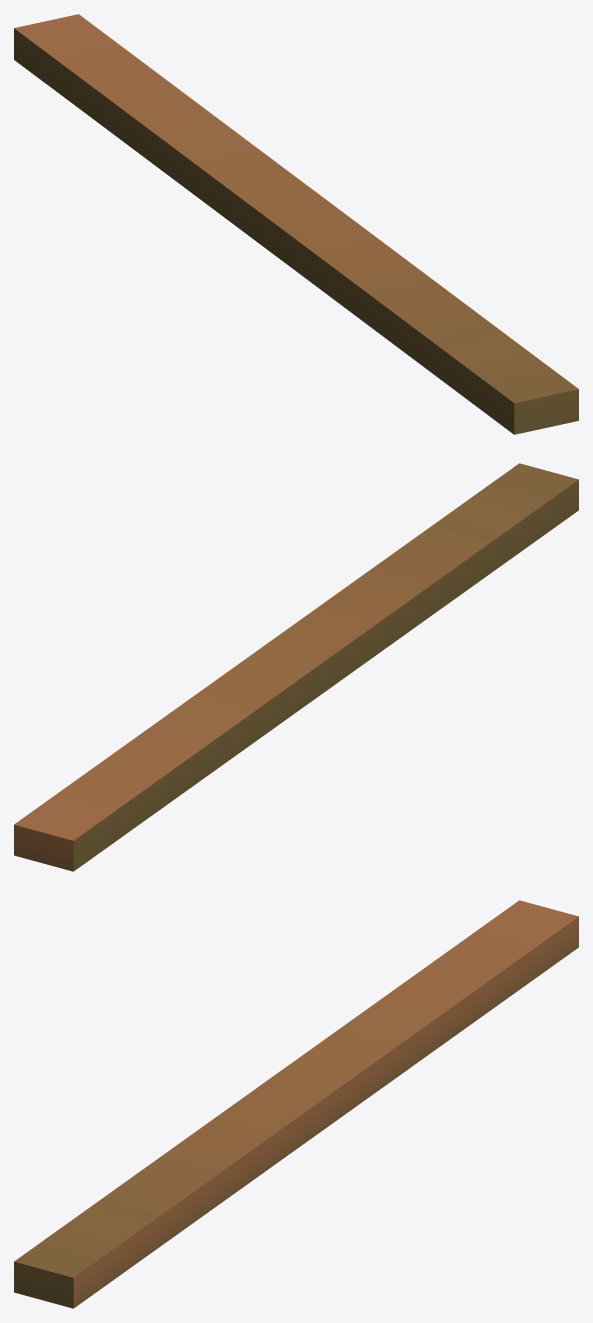
3 renders of one model, top to bottom at view 1: azimuth 30°, elevation 25°; view 2: azimuth 150°, elevation 25°; view 3: azimuth 330°, elevation 25°, orthographic. The views are drawn at different scales.
Visible parts, largest first — view 1: Object056; view 2: Object056; view 3: Object056.
Part boxes in pixels (x1=…): Object056: x1=14, y1=14, x2=578, y2=434; Object056: x1=14, y1=463, x2=578, y2=871; Object056: x1=14, y1=900, x2=578, y2=1308.
Size of the model in its own units: 42.26 by 17.77 by 520.
